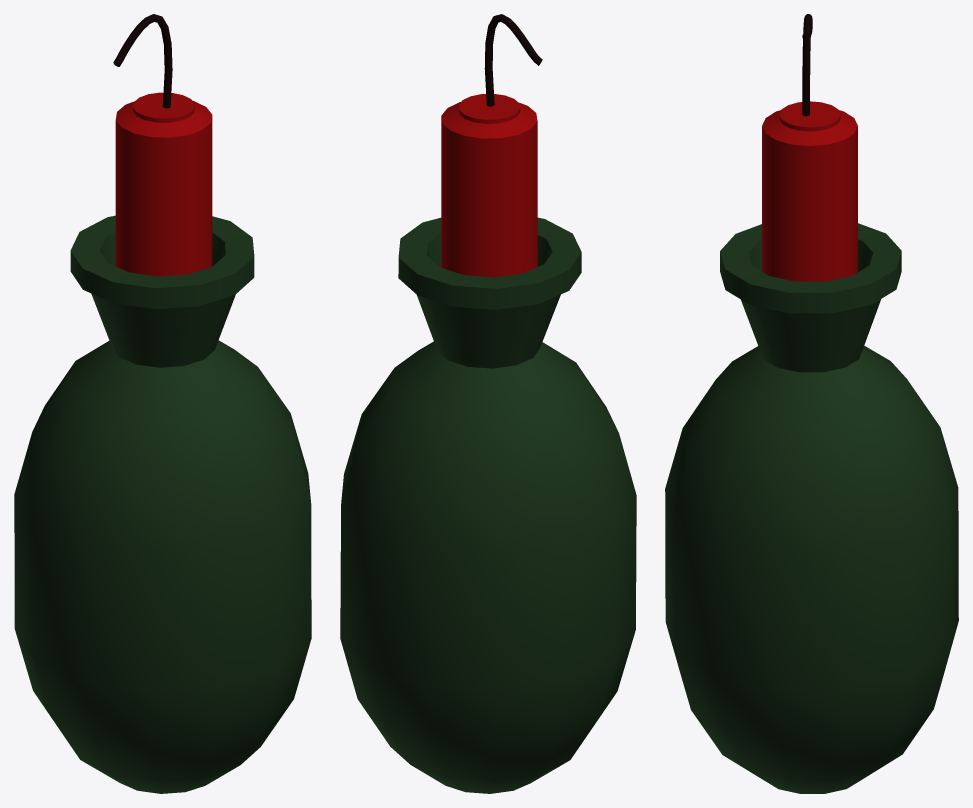
The model's file is Grenade.glb.
The picture shows the model from 3 angles, left to right: view 1: azimuth 30°, elevation 25°; view 2: azimuth 150°, elevation 25°; view 3: azimuth 270°, elevation 25°; orthographic projection.
Parts seen in each view (by area): view 1: NADE; view 2: NADE; view 3: NADE.
Part boxes in pixels (box(x1,y1,x2,y2)): NADE: box(14, 14, 311, 793); NADE: box(340, 14, 636, 793); NADE: box(665, 14, 958, 793).
Size of the model in its own units: 0.7463 by 2.15 by 0.7511.
Materials: 1 (1 with a texture image).
